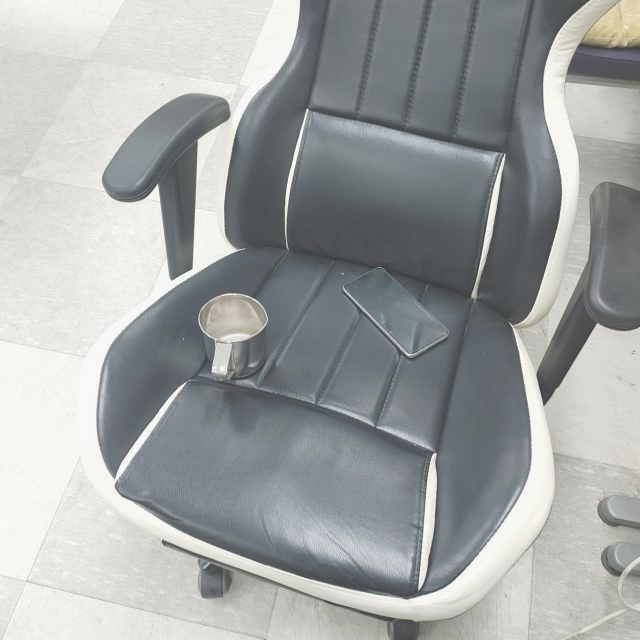cup: (199, 290, 269, 386)
phone: (342, 266, 451, 357)
